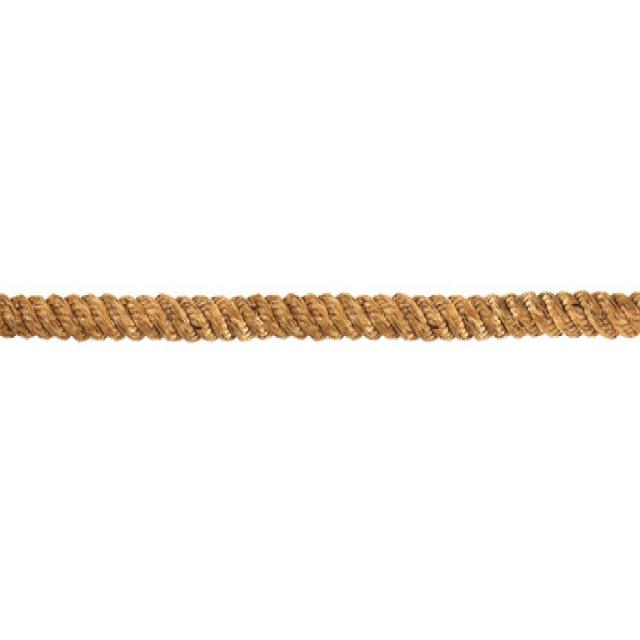Rope: (0, 244, 640, 374)
